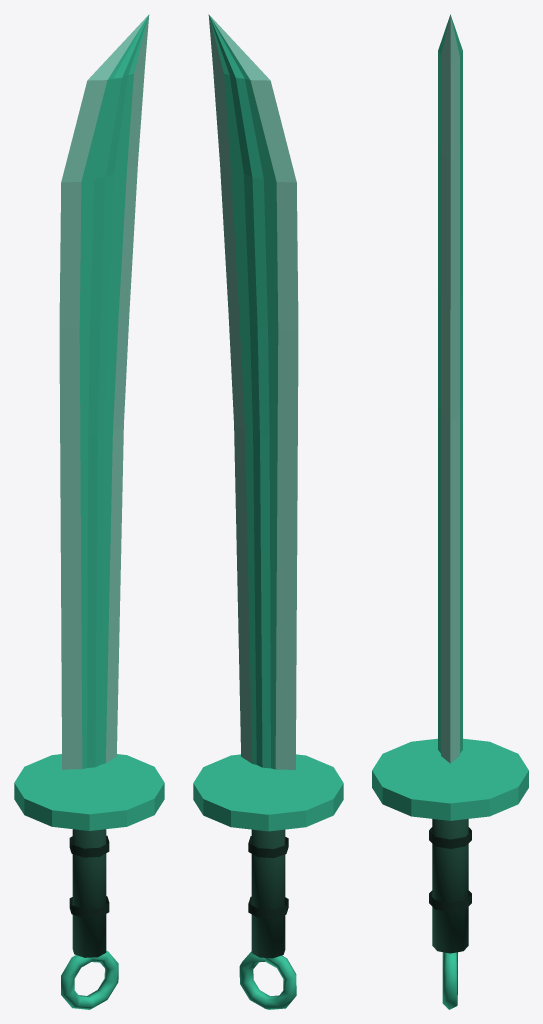
The model's file is mythril_broadsword.glb.
3 views of the same model, side by side, from view 1: azimuth 30°, elevation 25°; view 2: azimuth 150°, elevation 25°; view 3: azimuth 270°, elevation 25° (orthographic). The views are drawn at different scales.
Visible parts, largest first — view 1: mythril_broadsword_v0; view 2: mythril_broadsword_v0; view 3: mythril_broadsword_v0.
Boxes of the visible parts, x1,y1,x2,y2 form: mythril_broadsword_v0: (14,14,164,1009); mythril_broadsword_v0: (193,14,343,1009); mythril_broadsword_v0: (372,14,528,1009).
Size of the model in its own units: 0.18 by 1.3 by 0.18.
